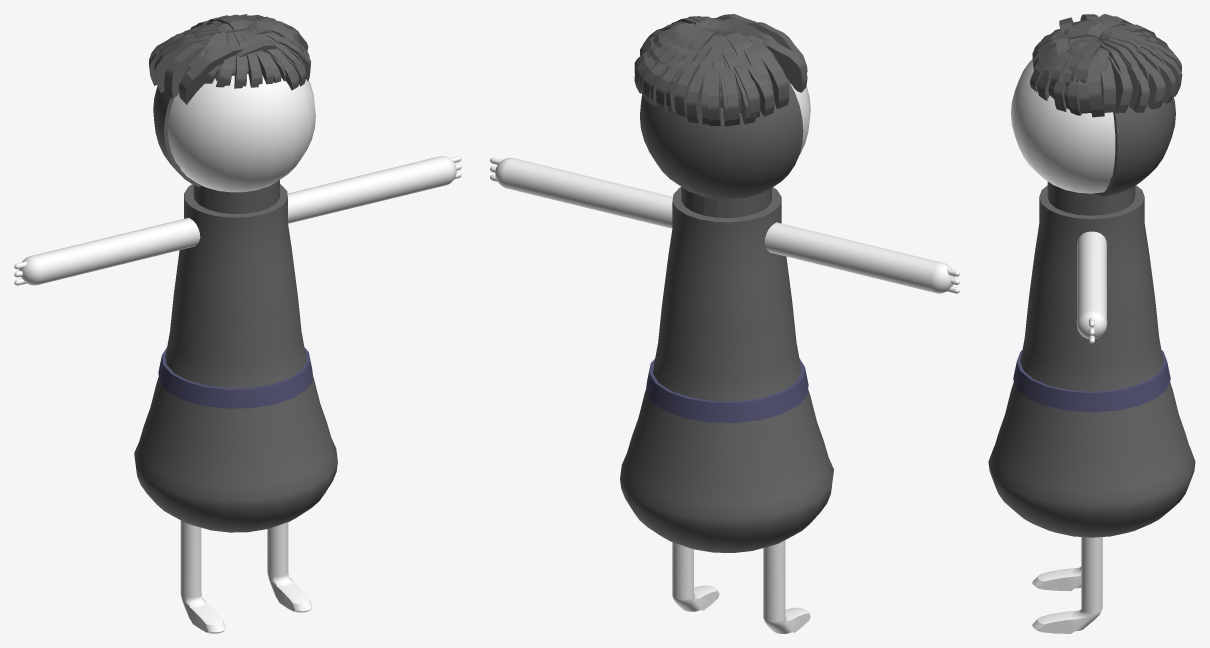
Rendered from principal.fbx.
3 renders of one model, left to right at view 1: azimuth 30°, elevation 25°; view 2: azimuth 150°, elevation 25°; view 3: azimuth 270°, elevation 25°, orthographic. The views are drawn at different scales.
Parts seen in each view (by area): view 1: pSphere91; view 2: pSphere91; view 3: pSphere91.
Boxes of the visible parts, x1,y1,x2,y2 form: pSphere91: (14, 14, 461, 633); pSphere91: (490, 14, 959, 633); pSphere91: (988, 14, 1195, 633).
Size of the model in its own units: 49.18 by 60.26 by 19.53.
